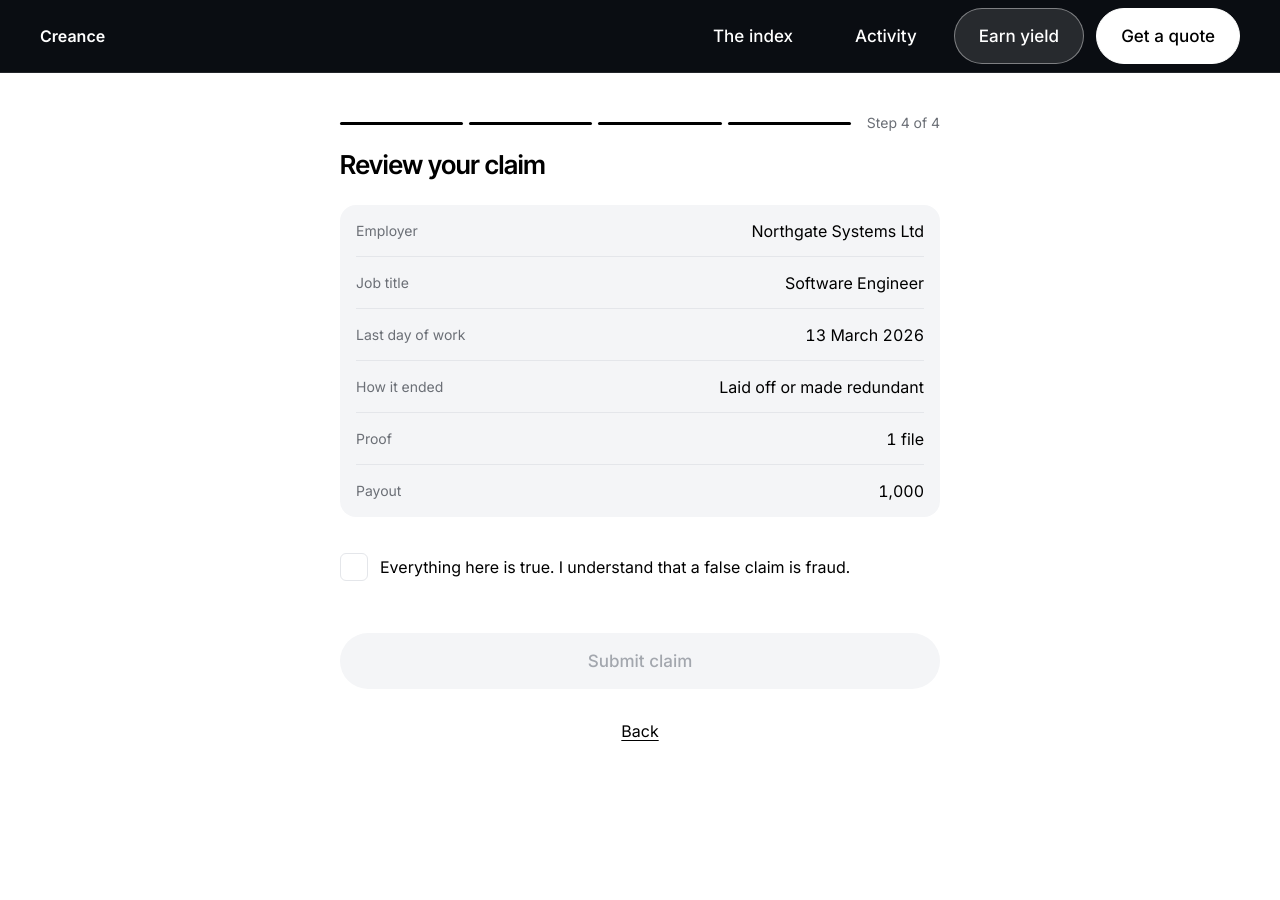
Scenario: C5, review and submit › offers the button again when another press could work
The image size is (1280, 900).
Click the checkbox at (595, 567), box [340,553,850,581]
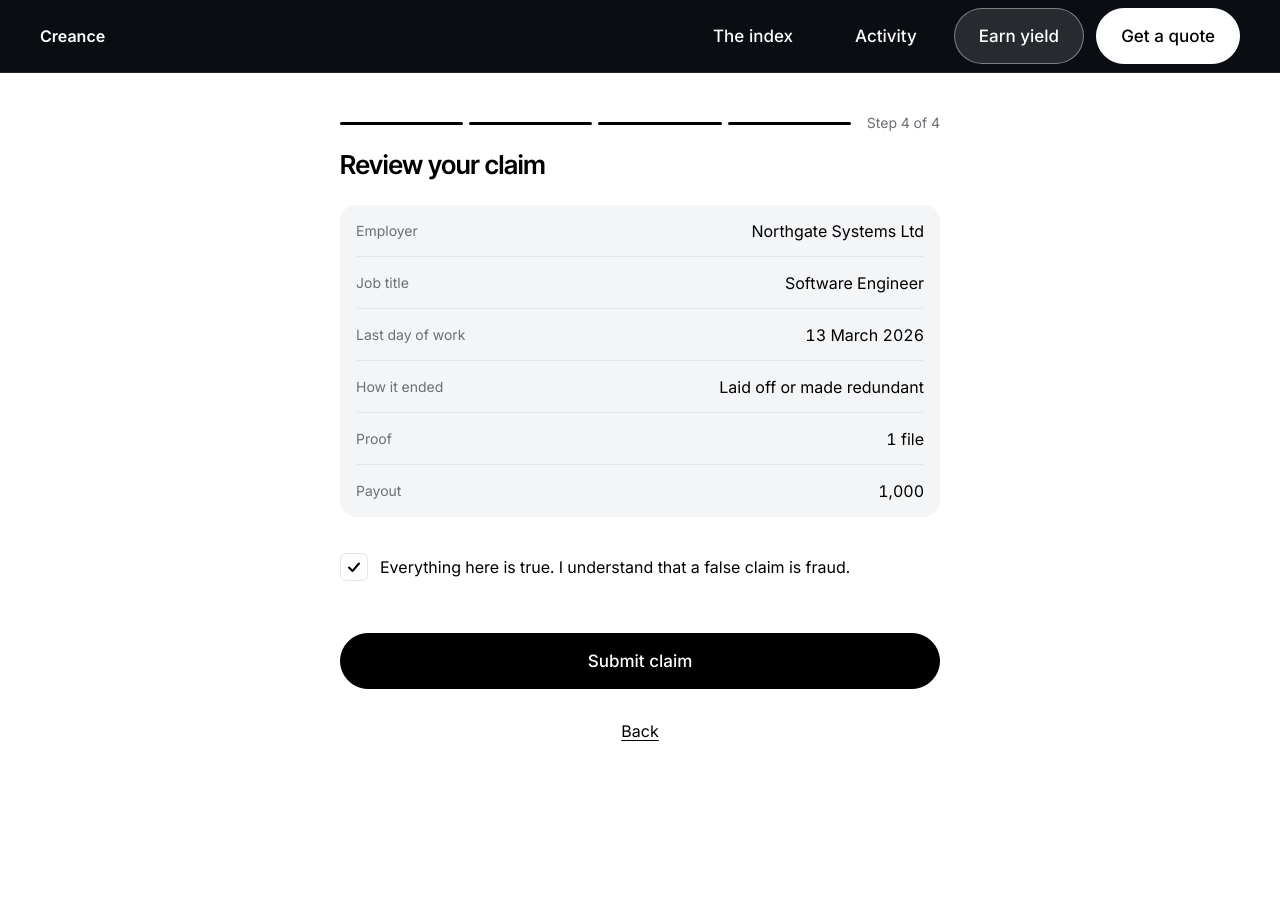
Click the button "Submit claim" at (640, 661), box [340,633,940,689]
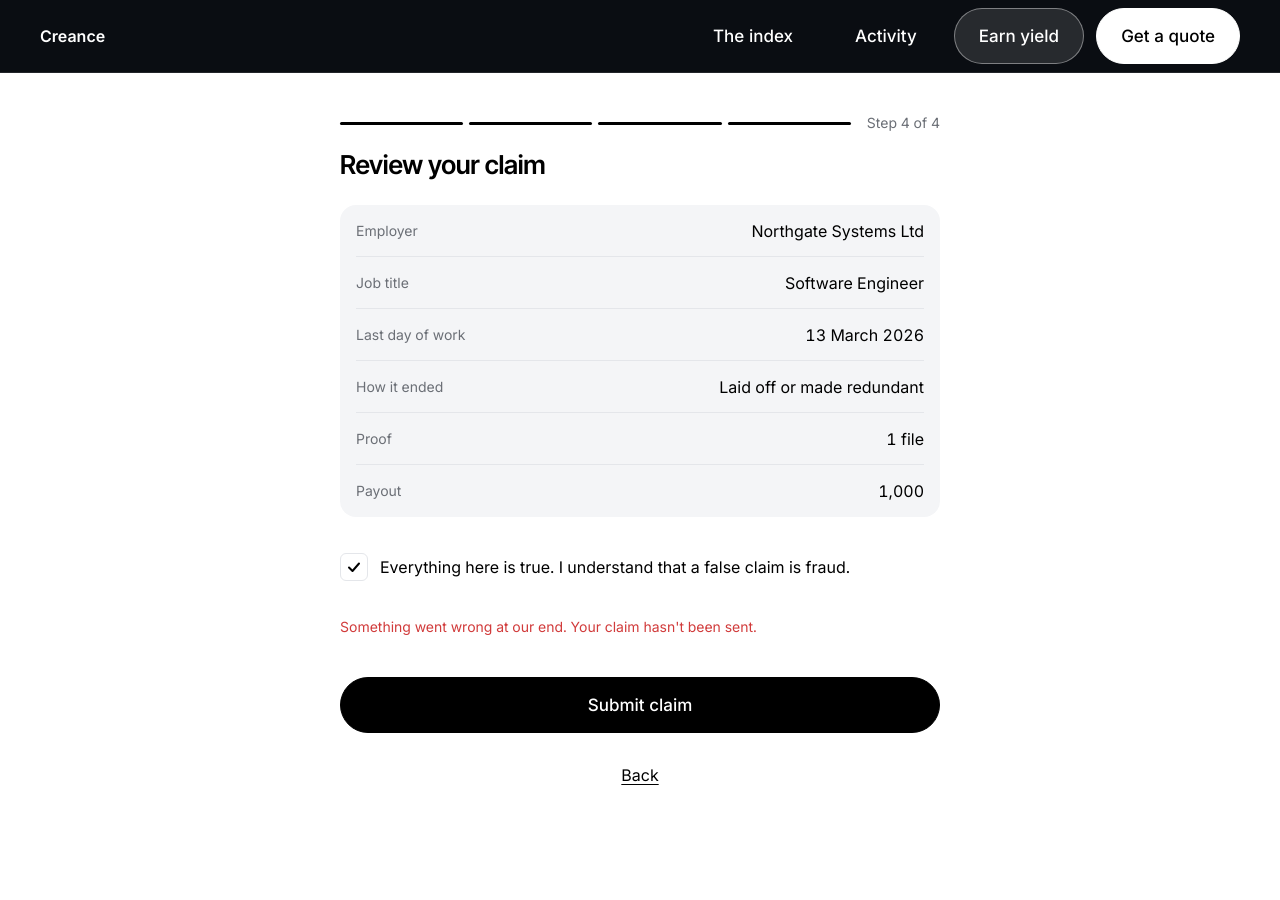
Check: the button "Submit claim" is shown, box [340,677,940,733]
Check: the text "Something went wrong at our end. Your claim hasn't been sent." is shown, box [340,618,757,635]
